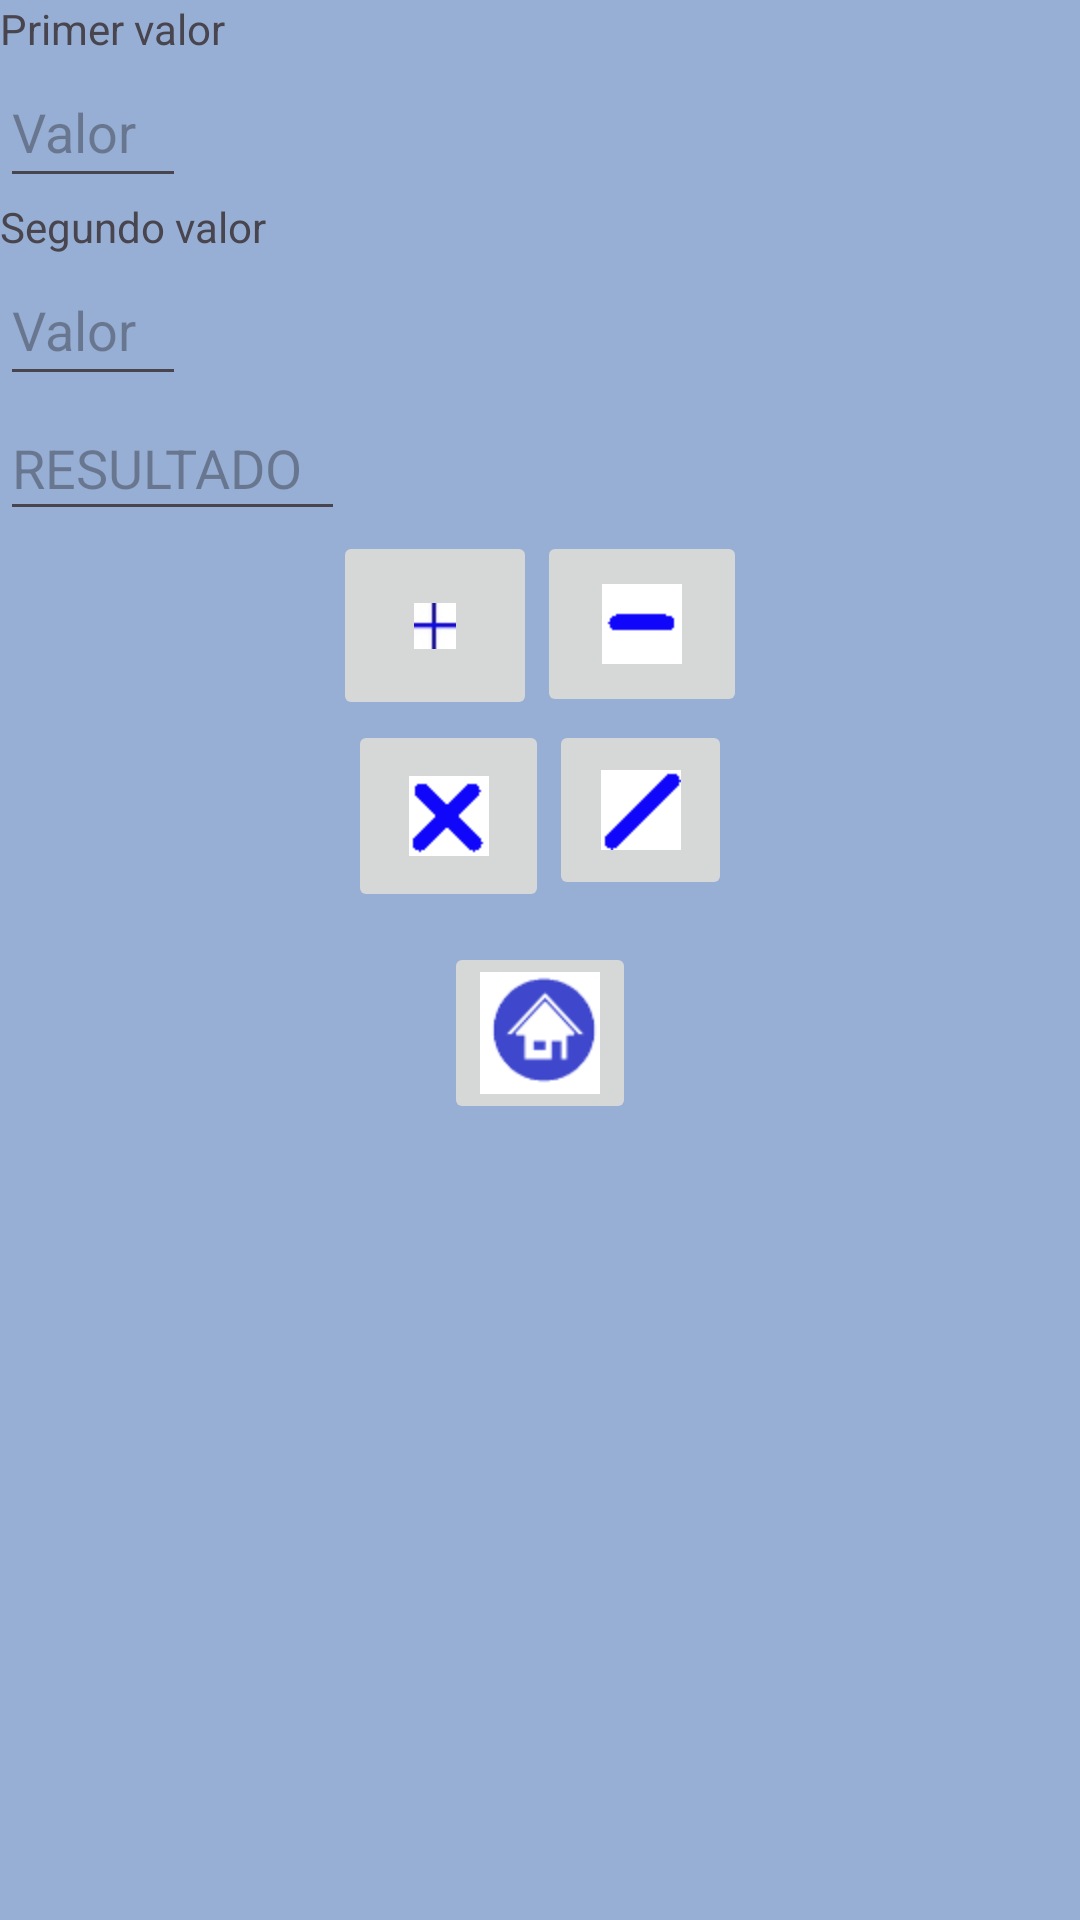

Point at icon controls on the screen. Image size 1080w x 1920h, points as (x=x, y=y).
divicion: (x=640, y=810)
home: (x=540, y=1033)
multiplicacion: (x=448, y=816)
resta: (x=642, y=624)
suma: (x=435, y=625)
